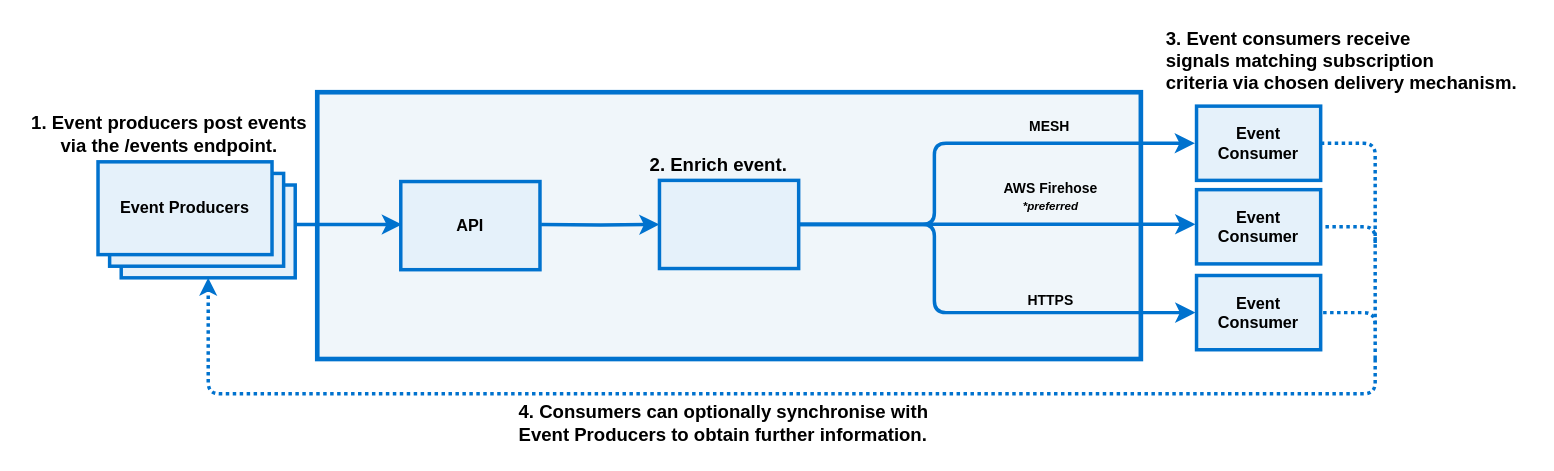
This 1554x471 diagram has some shape labels left out. The shapes that lost their labels are listed below. From the top down, each one's box as (x1, y1, x2, y2) in pixels, then its label:
(657, 178, 800, 270): Enrichment
(314, 89, 1143, 361): Multicast Notification Service
